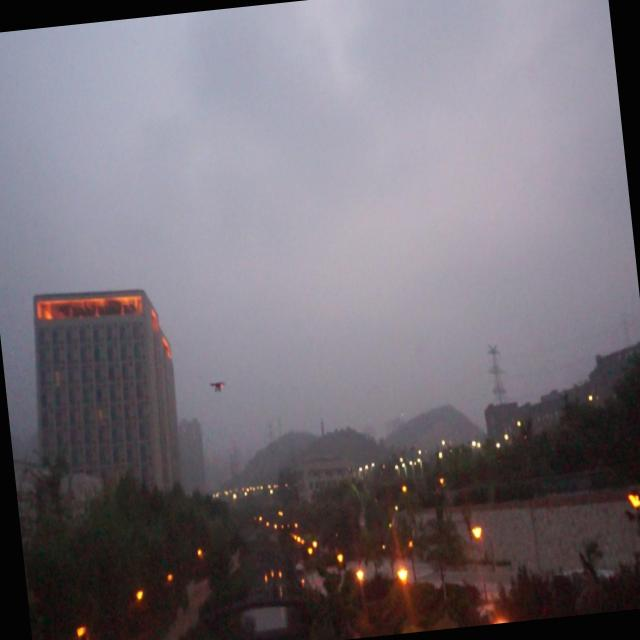drone: (206, 375, 228, 396)
